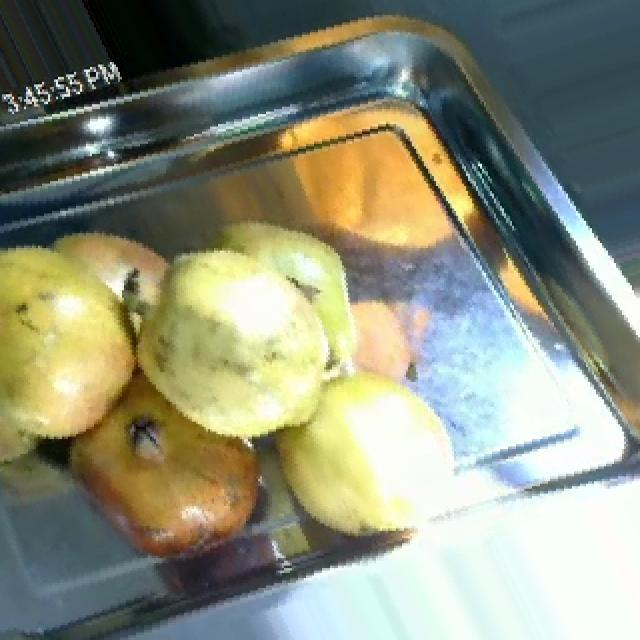fruit: (106, 196, 382, 466), (258, 344, 480, 566), (46, 397, 284, 585)
